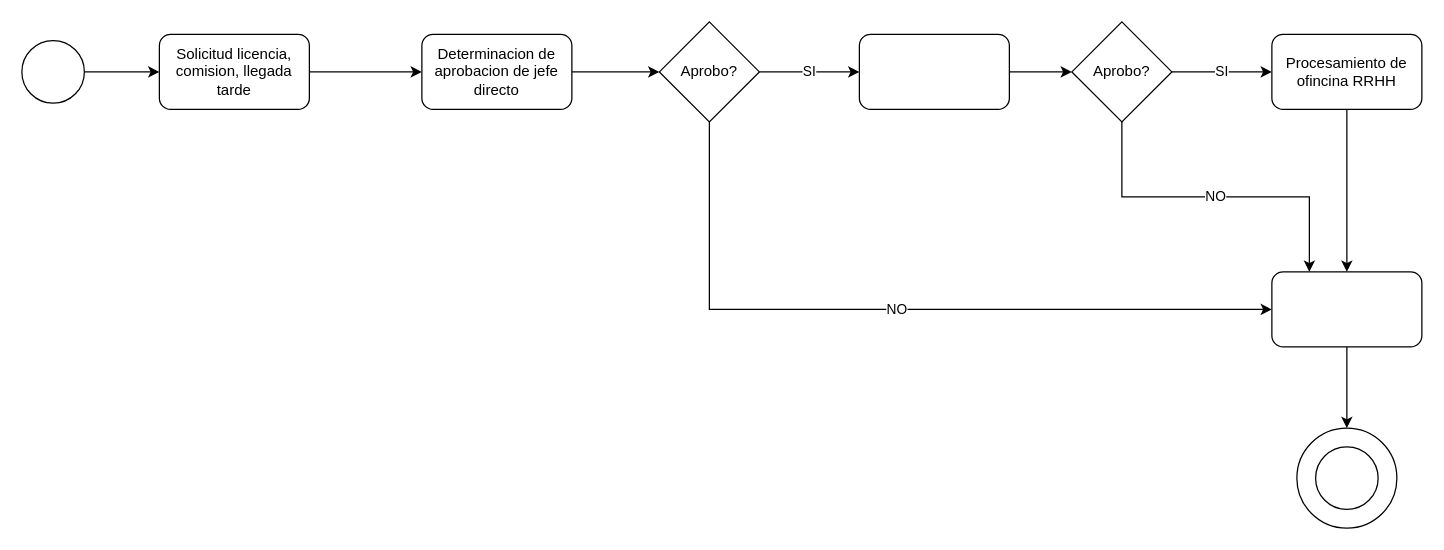
The diagram is 1444 pixels wide and 550 high, and some of its shapes have lost their labels. The shapes that lost their labels are listed below. From the top down, each one's centre as x and y in pixels, then its label:
At point 933,71: "Determinacion de aprobacion del jefe de area".
At point 1346,309: "Se notifica a empleado".
